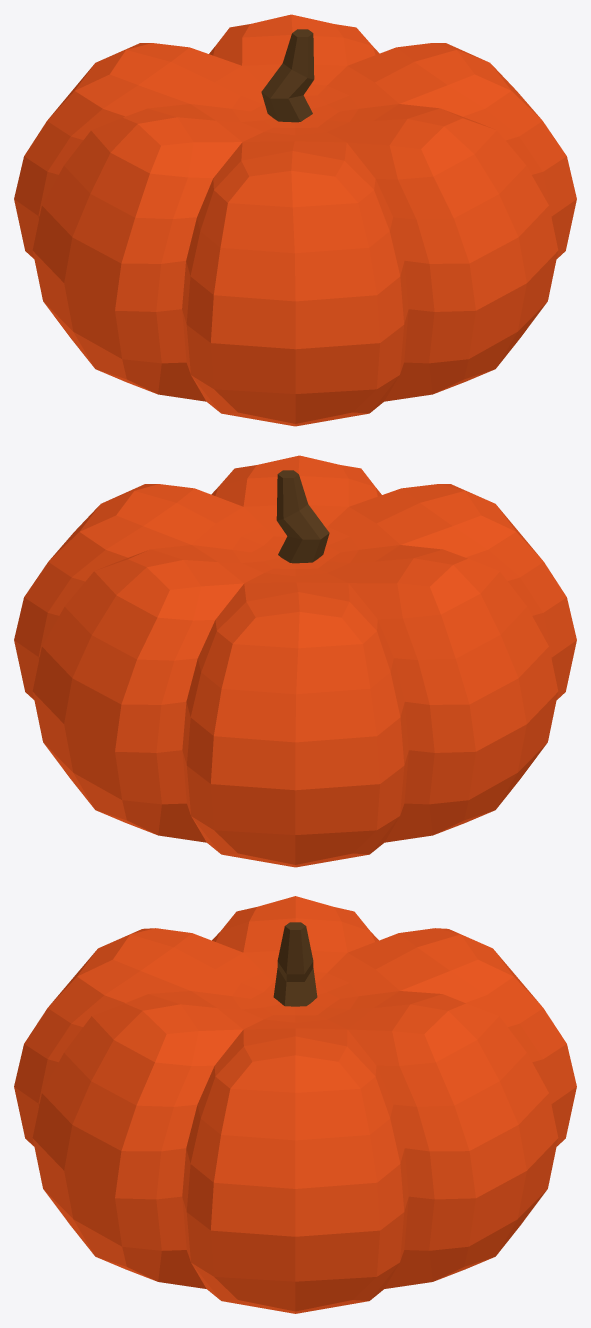
File: Food_Pumpkin.glb
3 views of the same model, one above another, from view 1: azimuth 30°, elevation 25°; view 2: azimuth 150°, elevation 25°; view 3: azimuth 270°, elevation 25° (orthographic).
Visible parts, largest first — view 1: Pumpkin; view 2: Pumpkin; view 3: Pumpkin.
Part boxes in pixels (x1,y1,x2,y2): Pumpkin: (14,14,576,426); Pumpkin: (14,455,576,867); Pumpkin: (14,896,576,1313).
Size of the model in its own units: 150 by 93.09 by 151.
